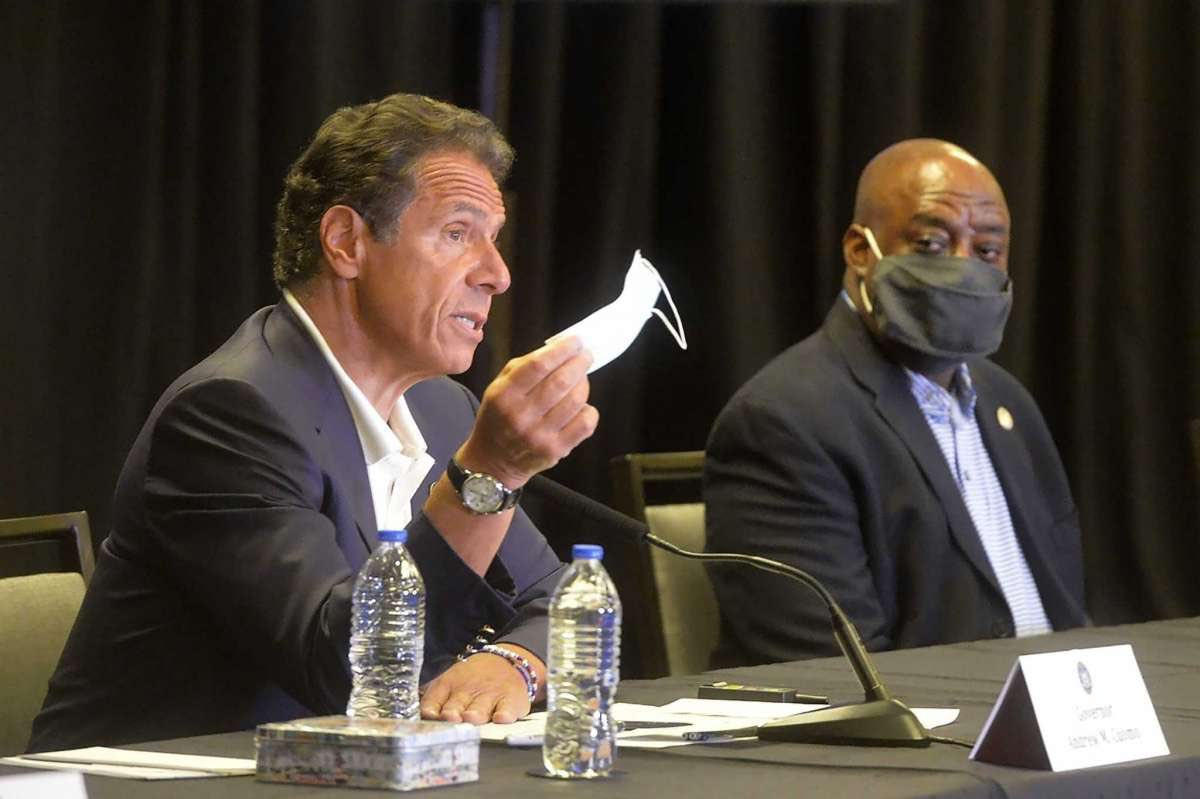mouth: (447, 308, 486, 339)
nose: (464, 266, 511, 293)
